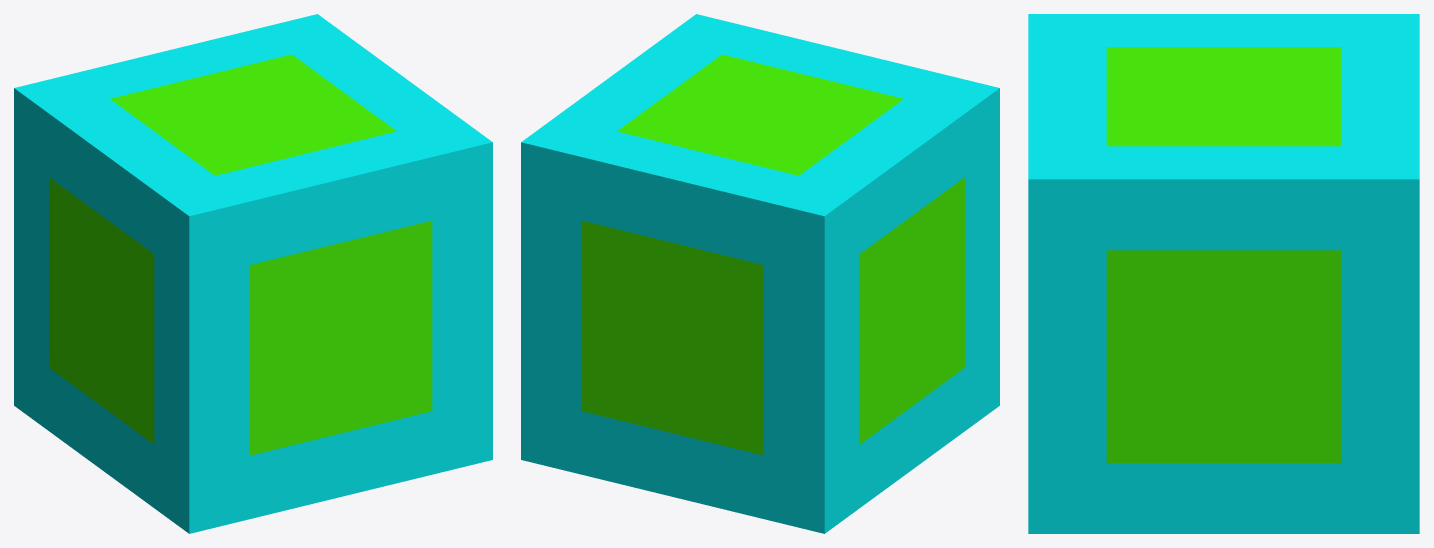
The picture shows the model from 3 angles, left to right: view 1: azimuth 30°, elevation 25°; view 2: azimuth 150°, elevation 25°; view 3: azimuth 270°, elevation 25°; orthographic projection. The views are drawn at different scales.
Parts seen in each view (by area): view 1: Объект_Куб; view 2: Объект_Куб; view 3: Объект_Куб.
Boxes of the visible parts, x1=… form: Объект_Куб: x1=14, y1=14, x2=492, y2=533; Объект_Куб: x1=521, y1=14, x2=999, y2=533; Объект_Куб: x1=1028, y1=14, x2=1419, y2=533.
Bounding box in the file's own units: 1 × 1 × 1.
